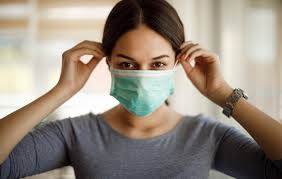with_mask: (118, 45, 169, 93)
